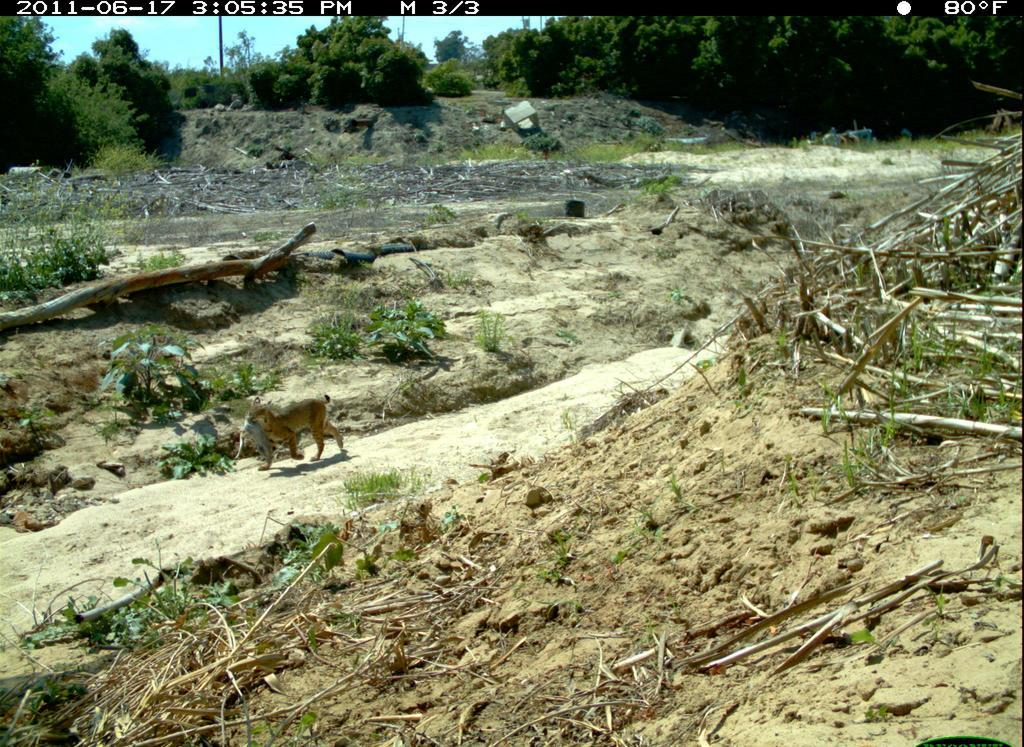bobcat: (242, 392, 346, 470)
